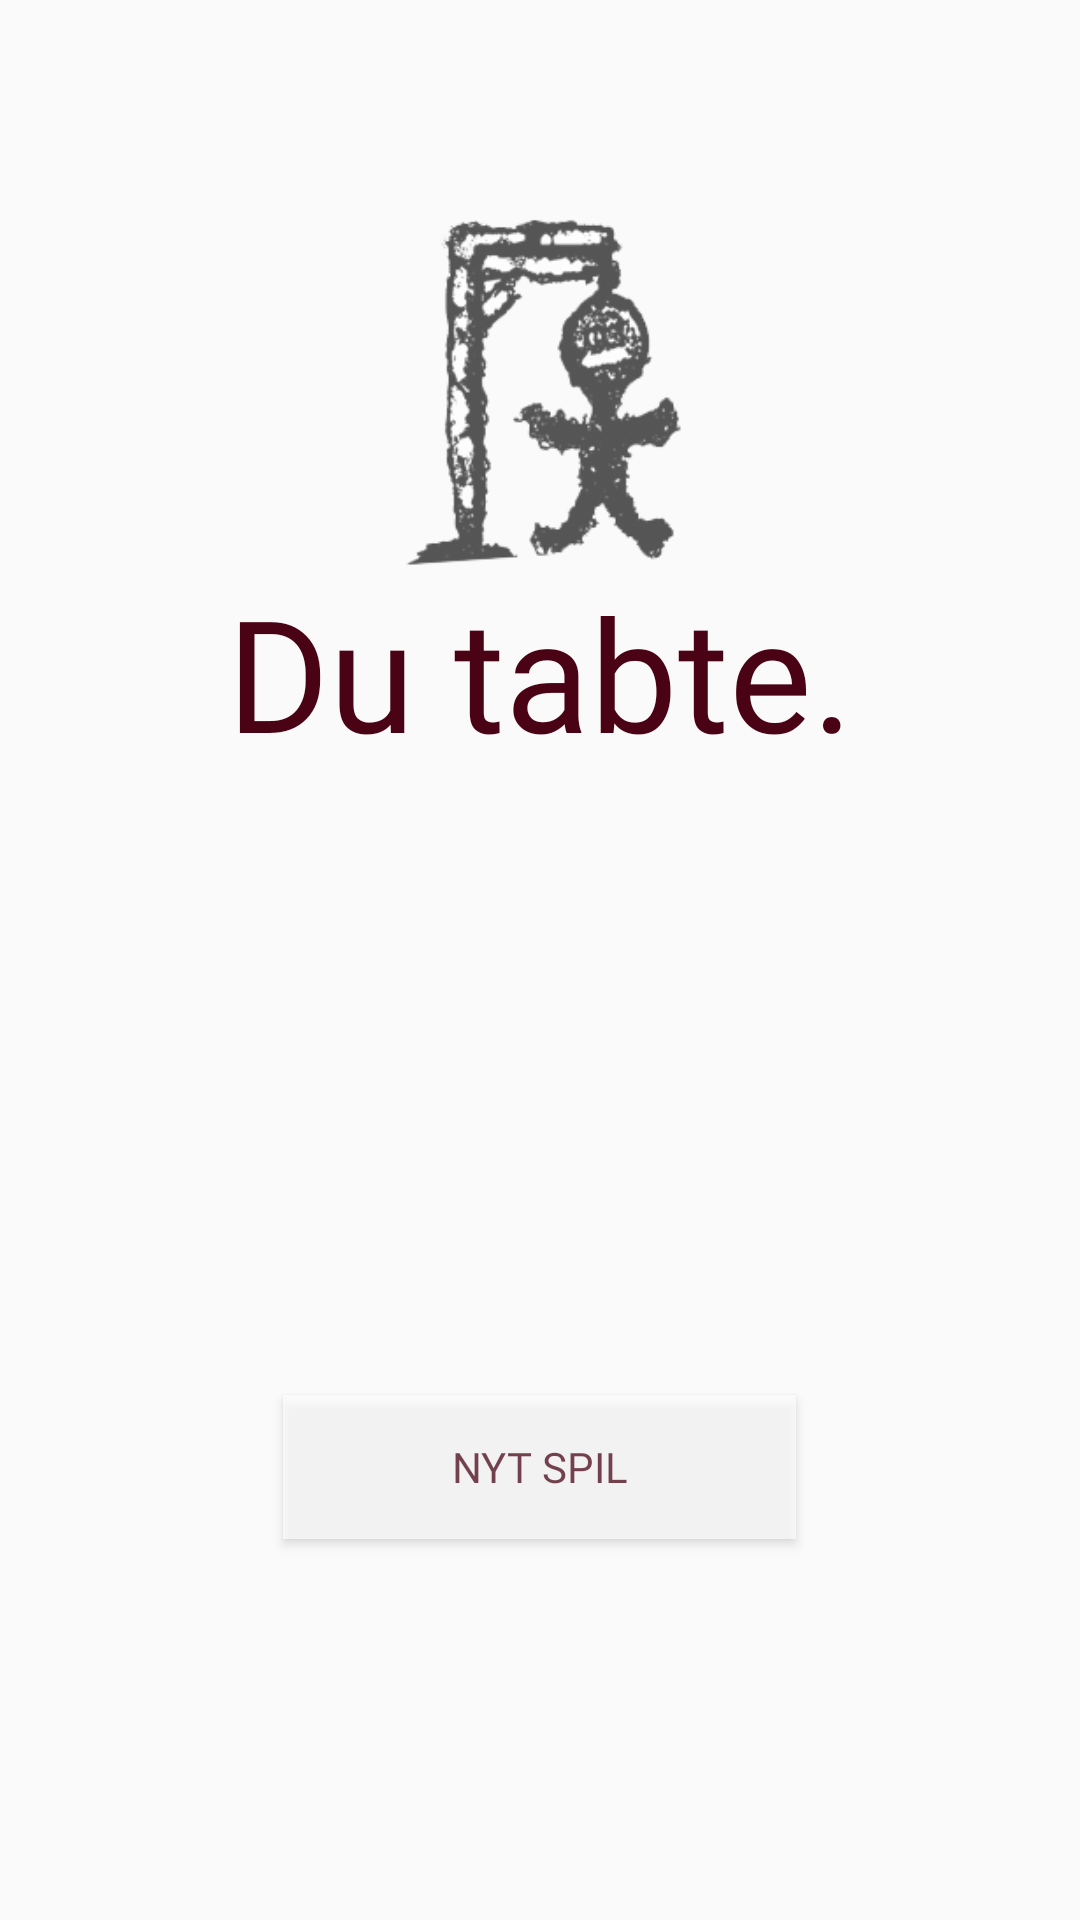

Named icons in this screenshot (1080x1920) and their centers, [x,y]:
forkert sketch: [544,392]
